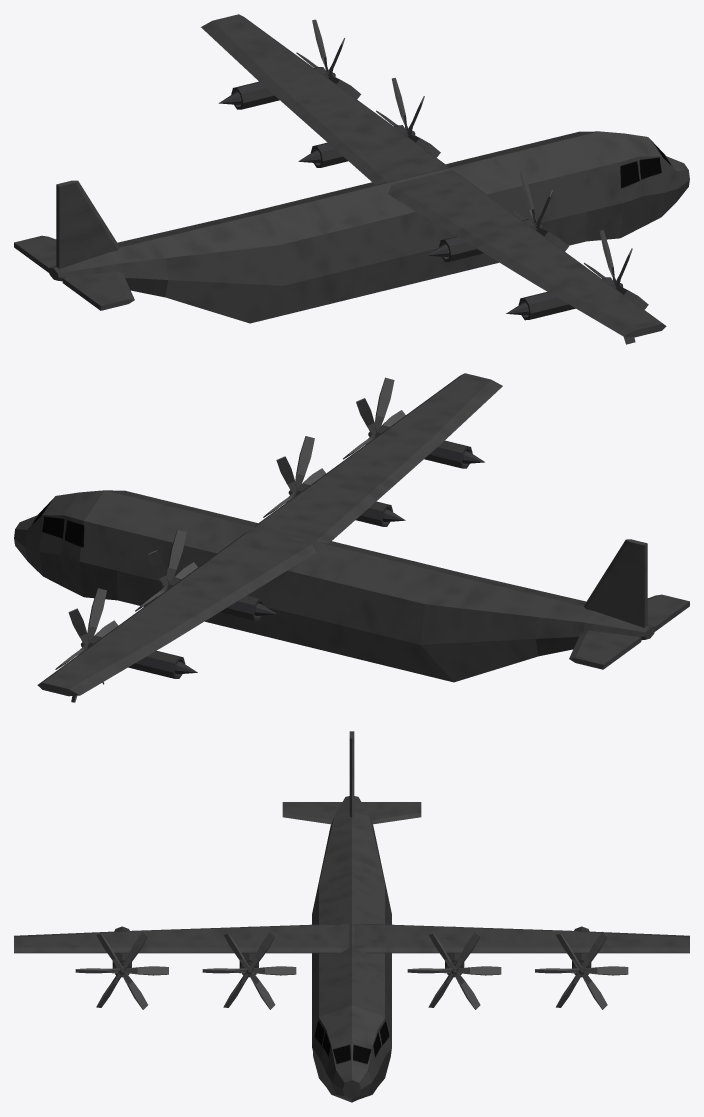
3 views of the same model, one above another, from view 1: azimuth 30°, elevation 25°; view 2: azimuth 150°, elevation 25°; view 3: azimuth 270°, elevation 25° (orthographic). The views are drawn at different scales.
Parts seen in each view (by area): view 1: PlaneBody, PropellerBody.001, PropellerBody.002, PropellerBody.003, Cube, PropellerBody.004, Cube.001, Cube.003, Cube.002; view 2: PlaneBody, Cube.001, Cube, Cube.003, Cube.002, PropellerBody.002, PropellerBody.001, PropellerBody.004, PropellerBody.003; view 3: PlaneBody, Cube.003, Cube.002, Cube, Cube.001.
Boxes of the visible parts, x1=… form: PlaneBody: x1=14, y1=14, x2=689, y2=337; PropellerBody.001: x1=506, y1=277, x2=622, y2=320; PropellerBody.002: x1=218, y1=67, x2=335, y2=109; PropellerBody.003: x1=426, y1=219, x2=543, y2=261; Cube: x1=584, y1=230, x2=648, y2=344; PropellerBody.004: x1=298, y1=125, x2=415, y2=167; Cube.001: x1=296, y1=19, x2=361, y2=99; Cube.003: x1=376, y1=78, x2=440, y2=157; Cube.002: x1=504, y1=171, x2=568, y2=251; PlaneBody: x1=14, y1=373, x2=689, y2=696; Cube.001: x1=55, y1=588, x2=118, y2=702; Cube: x1=343, y1=377, x2=405, y2=459; Cube.003: x1=135, y1=530, x2=197, y2=611; Cube.002: x1=263, y1=436, x2=325, y2=517; PropellerBody.002: x1=81, y1=636, x2=197, y2=678; PropellerBody.001: x1=368, y1=426, x2=484, y2=468; PropellerBody.004: x1=160, y1=578, x2=277, y2=620; PropellerBody.003: x1=288, y1=484, x2=405, y2=526; PlaneBody: x1=14, y1=731, x2=689, y2=1102; Cube.003: x1=407, y1=931, x2=501, y2=1009; Cube.002: x1=202, y1=931, x2=296, y2=1009; Cube: x1=75, y1=931, x2=168, y2=1009; Cube.001: x1=535, y1=931, x2=628, y2=1009.
Size of the model in its own units: 1246 by 339 by 1447.
4 materials, 1 textured.
